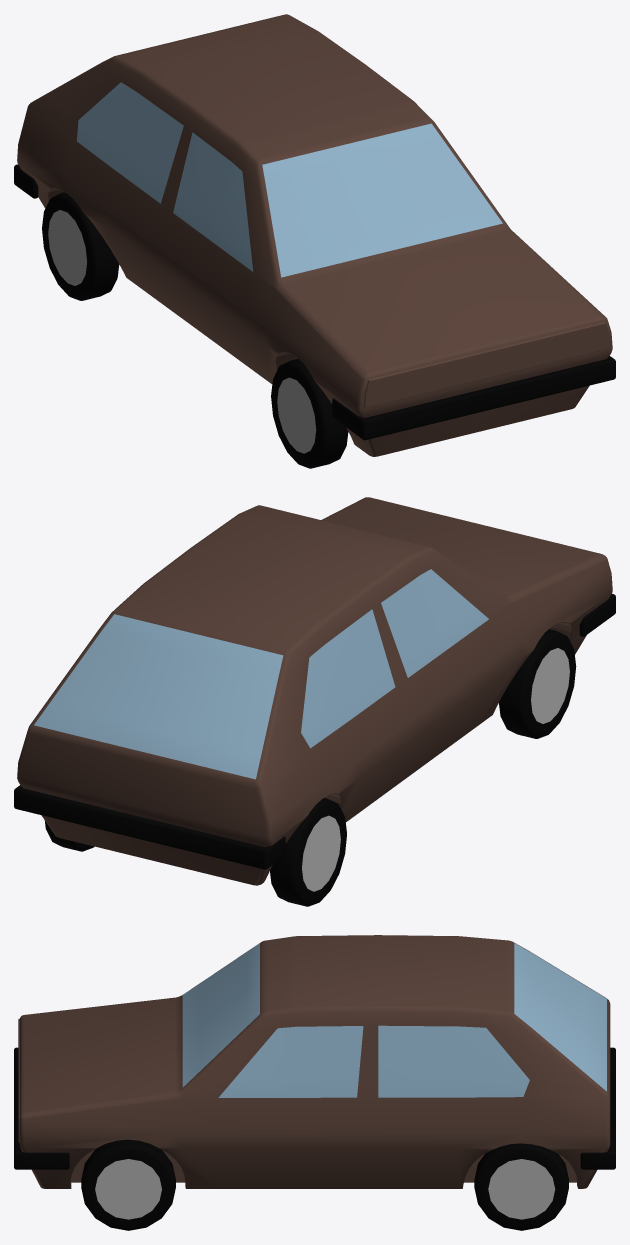
Rendered from SM_OldCar.fbx.
3 renders of one model, top to bottom at view 1: azimuth 30°, elevation 25°; view 2: azimuth 150°, elevation 25°; view 3: azimuth 270°, elevation 25°, orthographic. The views are drawn at different scales.
Visible parts, largest first — view 1: Cube.008, Cylinder.002, Cube.009; view 2: Cube.008, Cylinder.002, Cube.012, Cube.009; view 3: Cube.008, Cylinder.002, Cube.009, Cube.012.
Boxes of the visible parts, x1,y1,x2,y2 form: Cube.008: [17, 14, 612, 456]; Cylinder.002: [42, 192, 348, 468]; Cube.009: [332, 356, 615, 440]; Cube.008: [17, 497, 612, 885]; Cylinder.002: [44, 629, 576, 906]; Cube.012: [14, 785, 285, 869]; Cube.009: [579, 594, 615, 636]; Cube.008: [18, 935, 610, 1188]; Cylinder.002: [81, 1139, 568, 1230]; Cube.009: [14, 1047, 69, 1169]; Cube.012: [580, 1047, 615, 1169].
Bounding box in the file's own units: 104 × 95.03 × 248.
